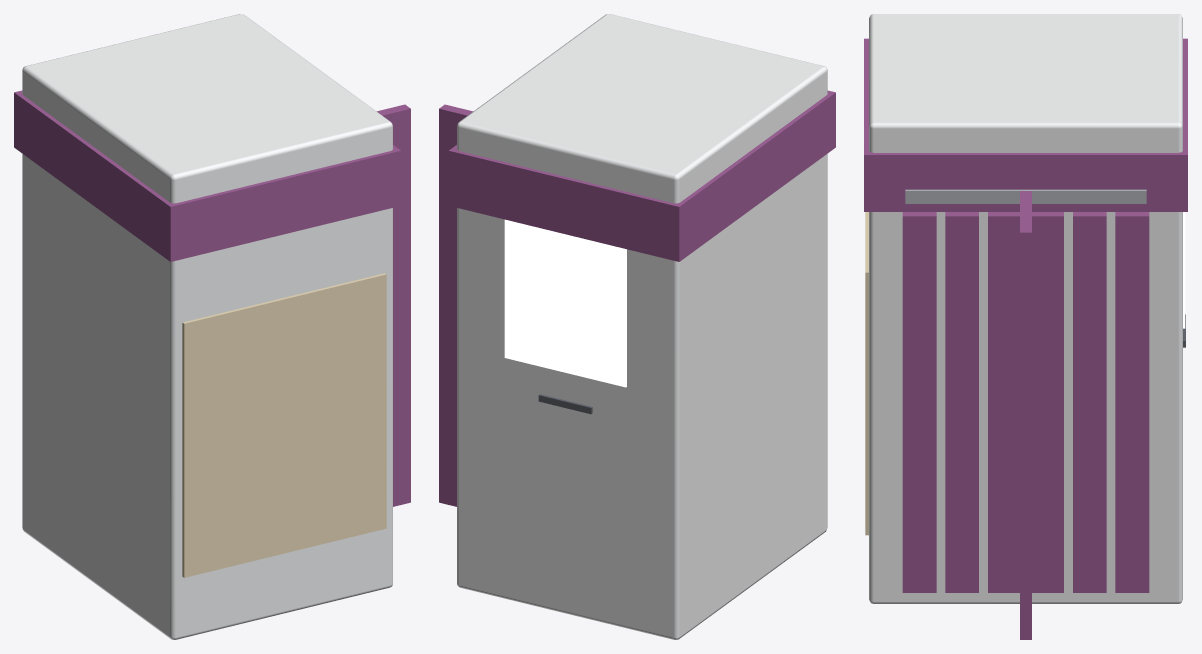
File: pharmacy-and-high-street-chemist-photo-booth-bay-b98e6c9a__37521.glb
3 renders of one model, left to right at view 1: azimuth 30°, elevation 25°; view 2: azimuth 150°, elevation 25°; view 3: azimuth 270°, elevation 25°, orthographic. The views are drawn at different scales.
Visible parts, largest first — view 1: photo-booth-bay; view 2: photo-booth-bay; view 3: photo-booth-bay.
Boxes of the visible parts, <box> form: photo-booth-bay: <box>14,14,410,639</box>; photo-booth-bay: <box>439,14,835,639</box>; photo-booth-bay: <box>864,14,1187,639</box>.
Bounding box in the file's own units: 1.56 × 2.2 × 1.34.
